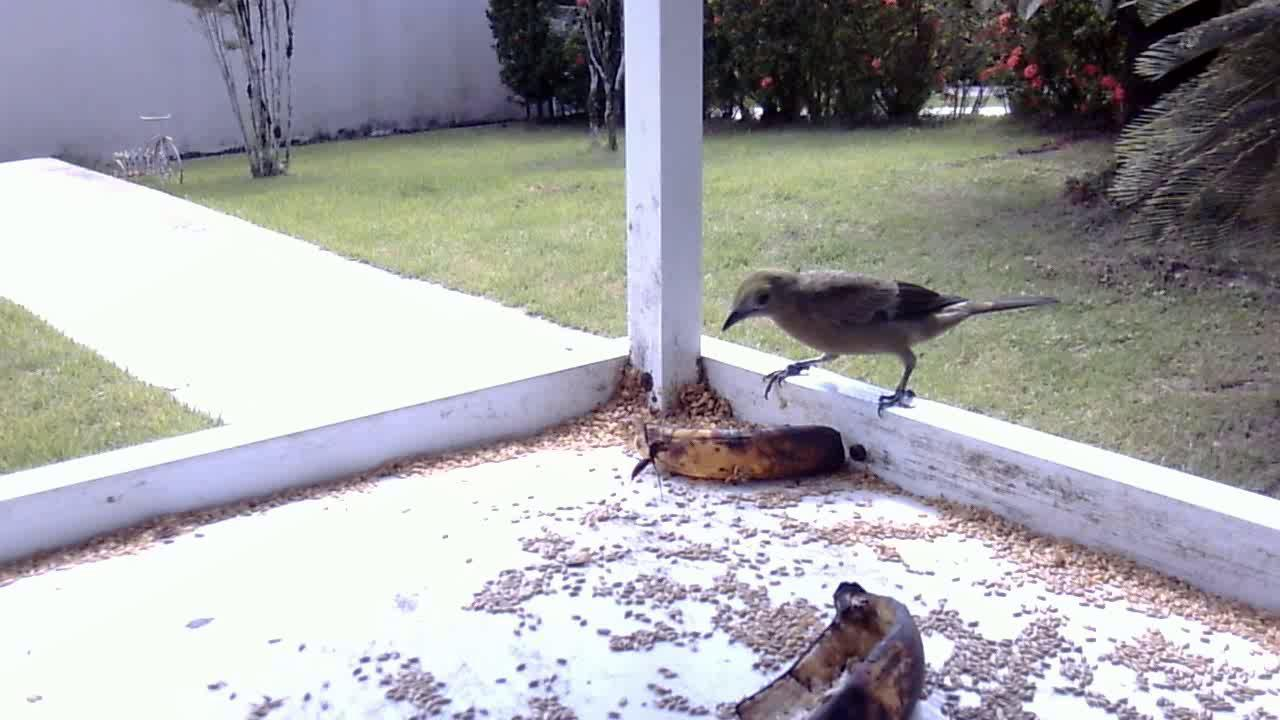sanhaco_do_coqueiro: (720, 258, 1059, 428)
